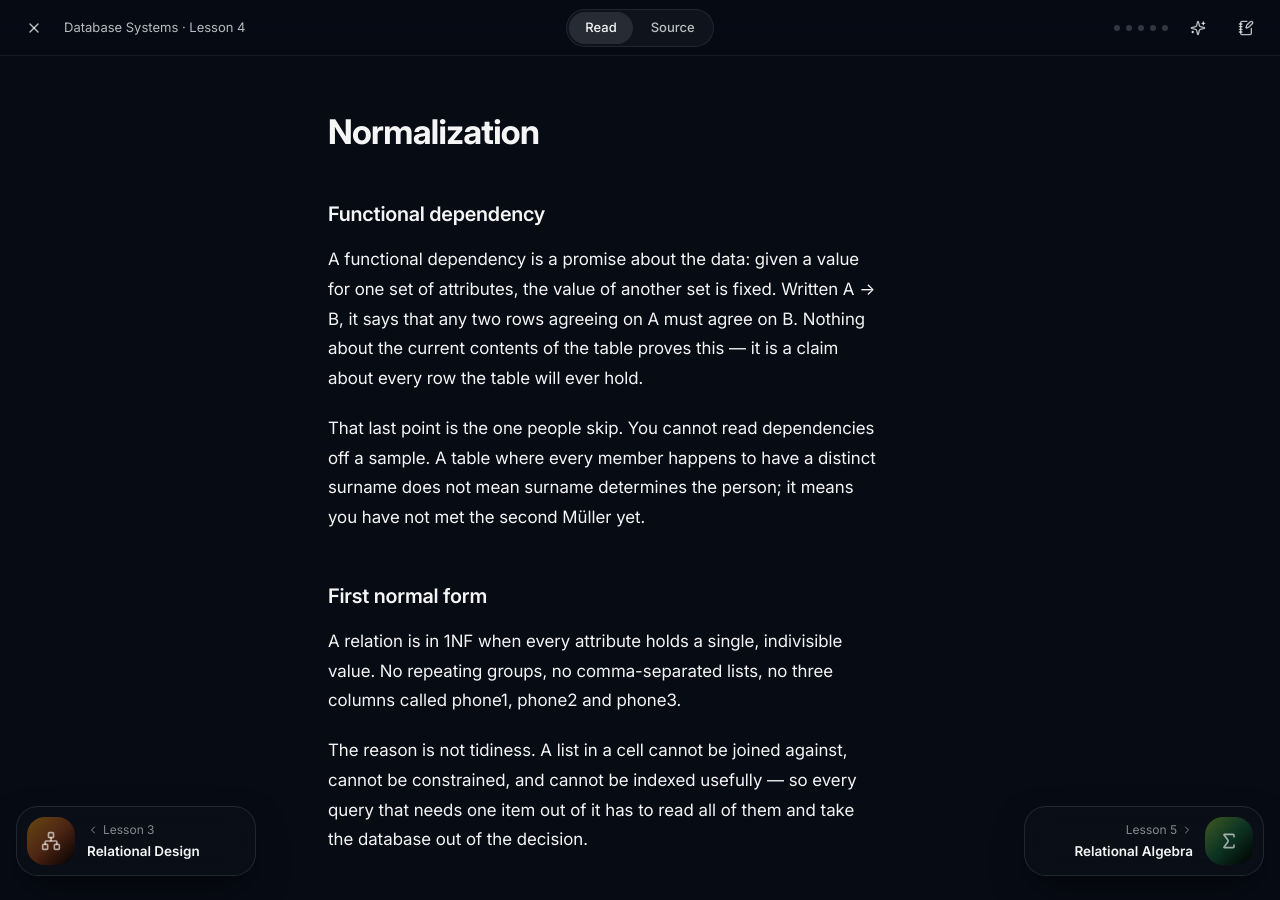
Test: a Lesson with both views can be read either way › offers the toggle, and both halves work
expect the header is shown: met, box [0,0,1279,56]
Click the tab "Source": point(673, 28) [635,12,711,44]
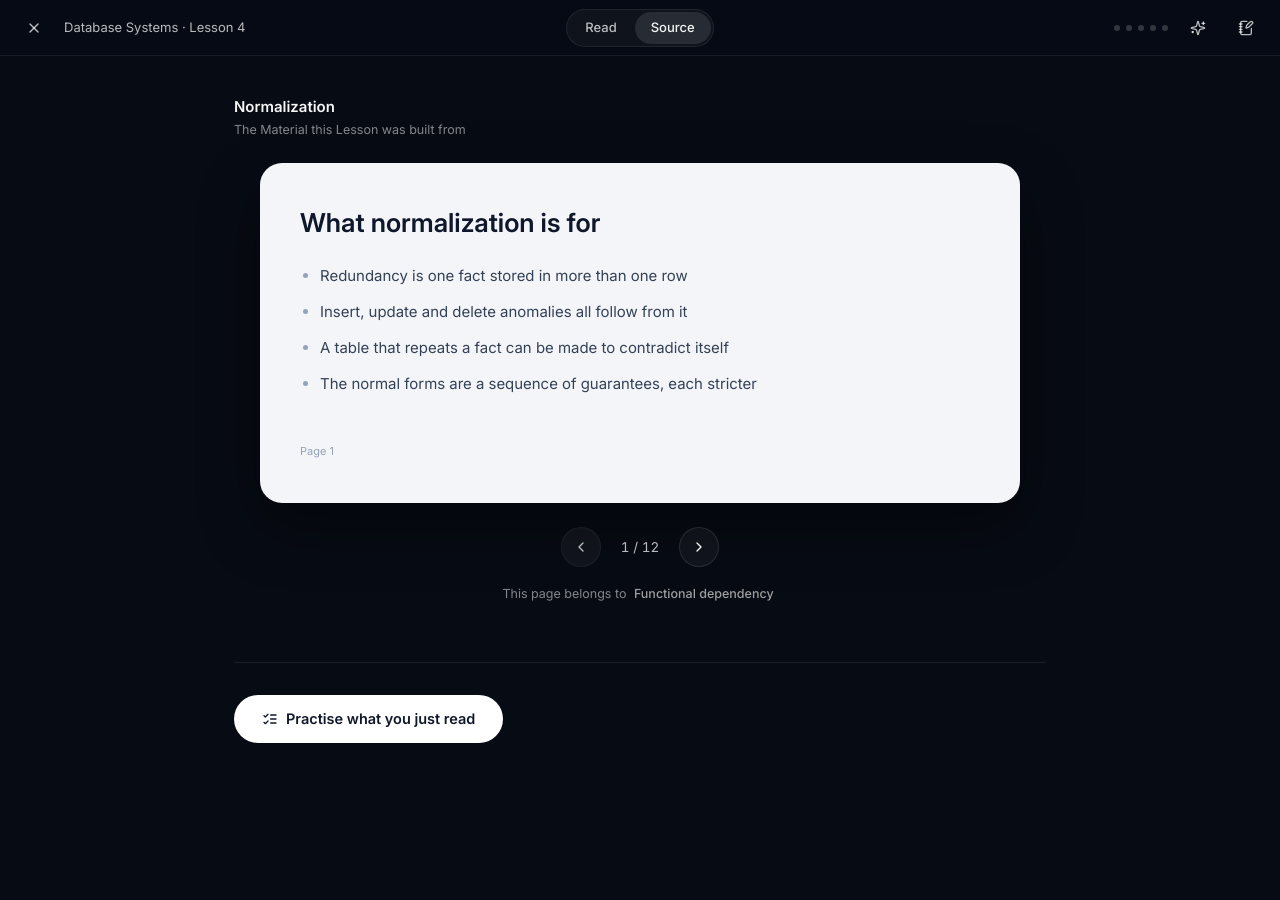
expect the text "1 / 12" is shown: met, box [621,537,659,557]
Click the tab "Read": point(601, 28) [569,12,633,44]
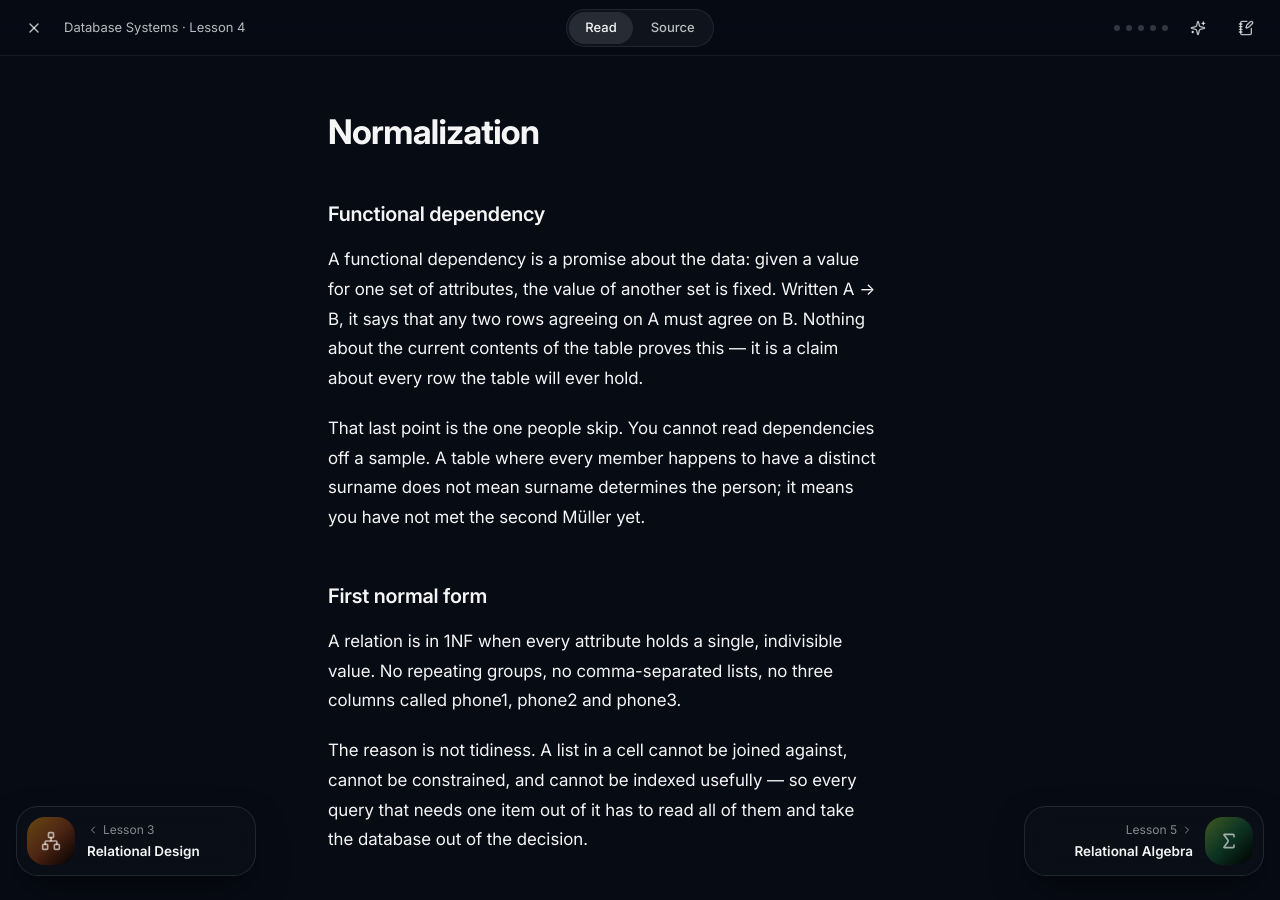
expect the heading "Functional dependency" is shown: met, box [328,202,545,226]
